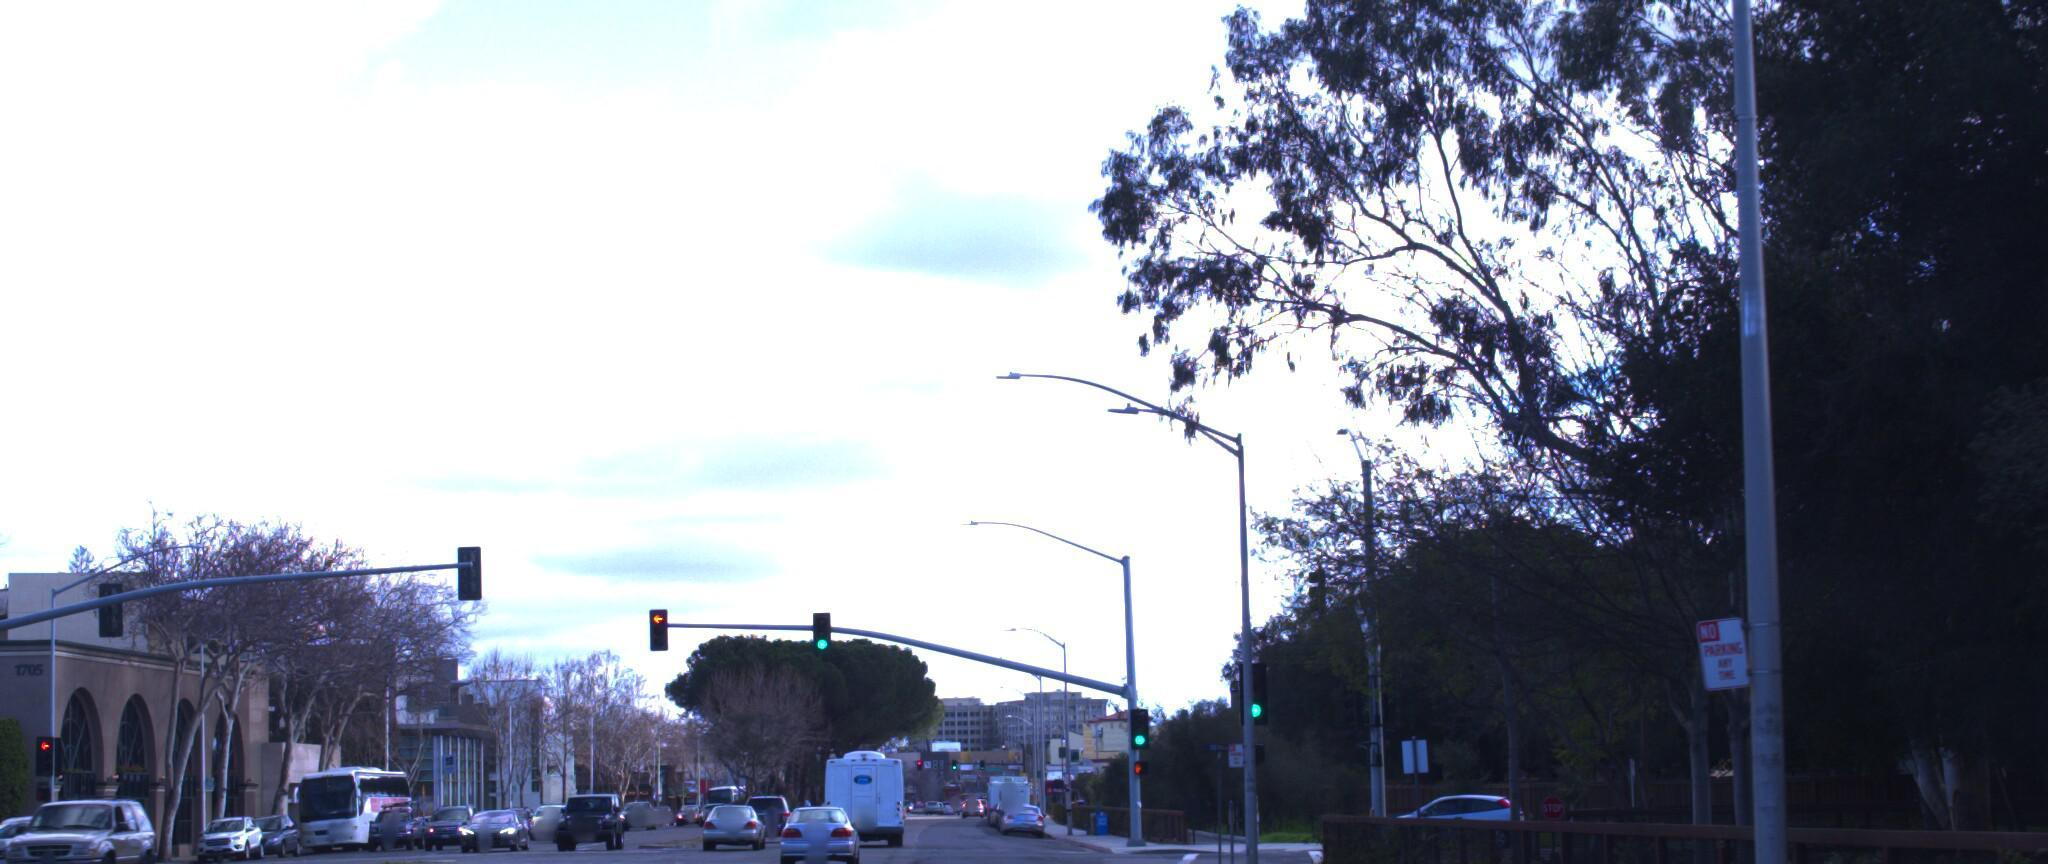car: (0, 775, 176, 864), (1354, 773, 1522, 831), (775, 783, 865, 857)
